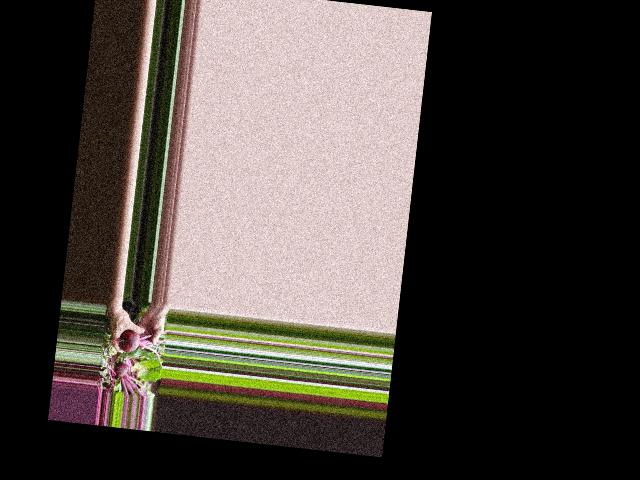beet: (116, 327, 166, 368)
